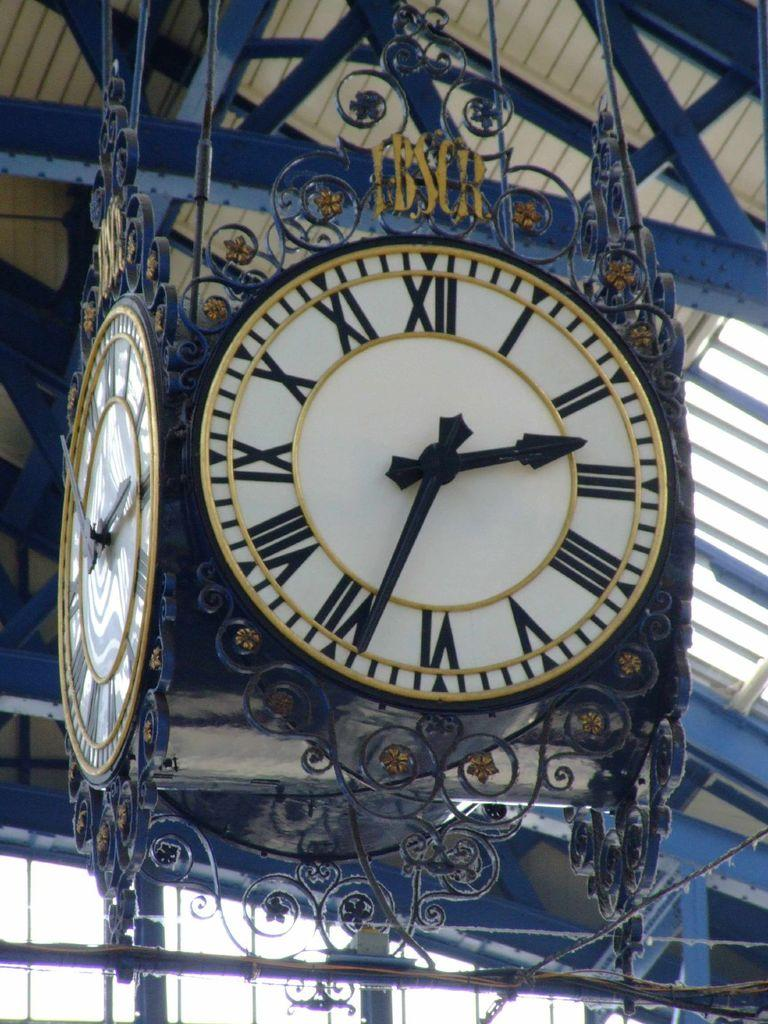Luggage-and-bags: (54, 1, 699, 976)
